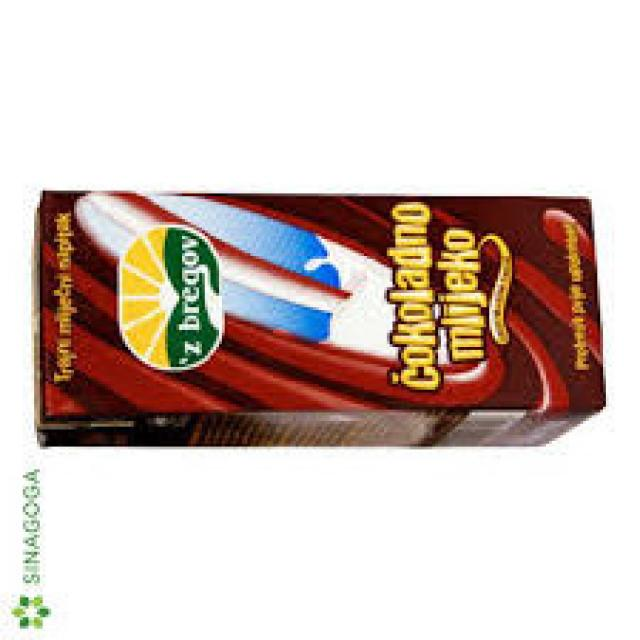non_white_jug: (28, 188, 611, 450)
